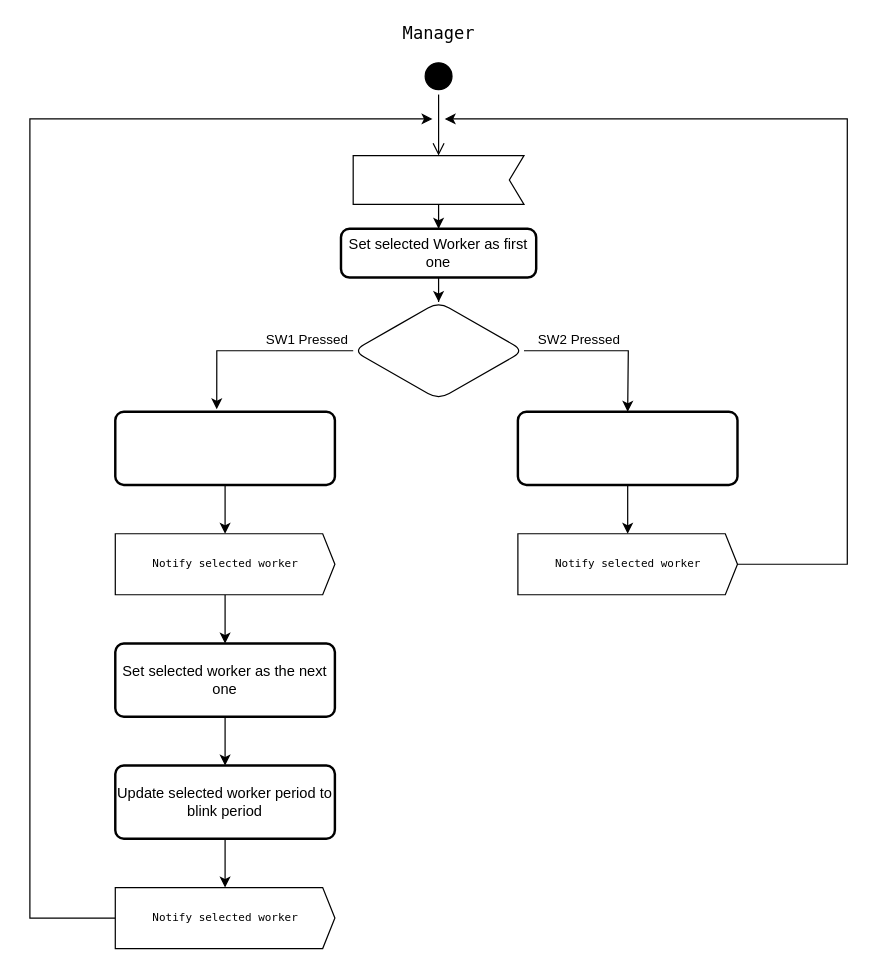
The diagram is 878 pixels wide and 970 high, and some of its shapes have lost their labels. The box of each missing label's shape, as (x1, y1, x2, y2) in pixels:
Update currently selected worker on time: (516, 410, 738, 486)
Update currently selected worker period: (113, 410, 336, 486)
Wait for message: (352, 154, 524, 204)
